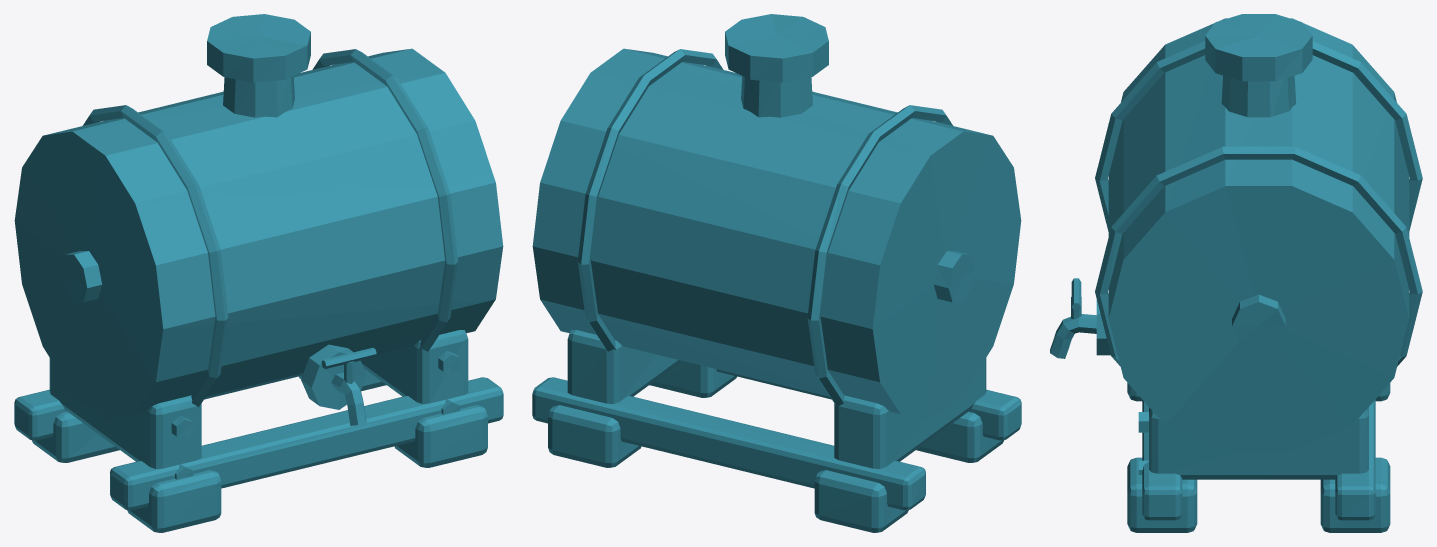
The model's file is Water-Tank.glb.
The picture shows the model from 3 angles, left to right: view 1: azimuth 30°, elevation 25°; view 2: azimuth 150°, elevation 25°; view 3: azimuth 270°, elevation 25°; orthographic projection.
Parts seen in each view (by area): view 1: water-tank-static-water-tank-blue-grey-mat, water-tank-static-water-tank-timber-mat, water-tank-static-water-tank-iron-mat, water-tank-static-water-tank-dark-grey-mat, water-tank-static-water-tank-brass-mat; view 2: water-tank-static-water-tank-blue-grey-mat, water-tank-static-water-tank-timber-mat, water-tank-static-water-tank-iron-mat, water-tank-static-water-tank-dark-grey-mat; view 3: water-tank-static-water-tank-blue-grey-mat, water-tank-static-water-tank-iron-mat, water-tank-static-water-tank-timber-mat, water-tank-static-water-tank-dark-grey-mat, water-tank-static-water-tank-brass-mat.
Part boxes in pixels (x1,y1,x2,y2): water-tank-static-water-tank-blue-grey-mat: (14,48,503,418); water-tank-static-water-tank-timber-mat: (14,330,503,532); water-tank-static-water-tank-iron-mat: (61,14,459,479); water-tank-static-water-tank-dark-grey-mat: (223,76,294,117); water-tank-static-water-tank-brass-mat: (331,361,366,425); water-tank-static-water-tank-blue-grey-mat: (532,48,1021,418); water-tank-static-water-tank-timber-mat: (532,330,1021,532); water-tank-static-water-tank-iron-mat: (577,14,974,407); water-tank-static-water-tank-dark-grey-mat: (741,76,812,117); water-tank-static-water-tank-blue-grey-mat: (1108,18,1409,451); water-tank-static-water-tank-iron-mat: (1095,14,1422,474); water-tank-static-water-tank-timber-mat: (1127,383,1390,532); water-tank-static-water-tank-dark-grey-mat: (1221,75,1296,117); water-tank-static-water-tank-brass-mat: (1050,297,1096,358).
Bounding box in the file's own units: 1.65 × 1.72 × 1.39.
